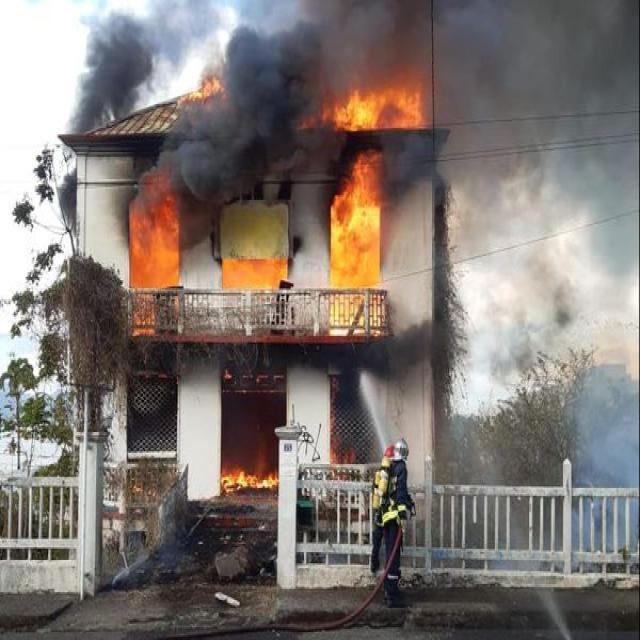Fire: (334, 204, 377, 280), (349, 92, 417, 130)
Smoke: (184, 98, 288, 196), (225, 36, 318, 96), (86, 21, 148, 110)
